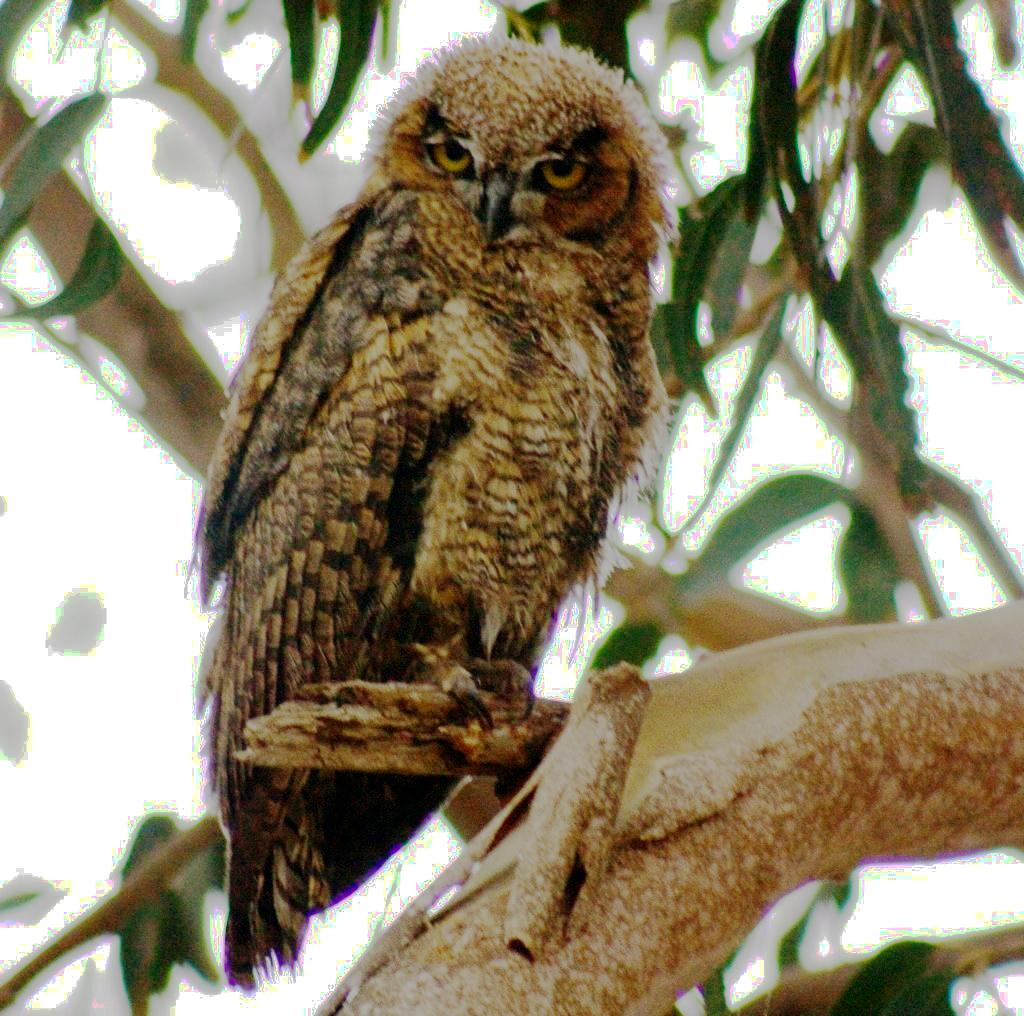Owl: (179, 40, 693, 999)
